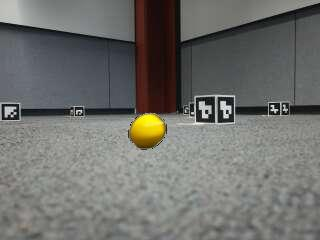lemon: (130, 115, 165, 149)
